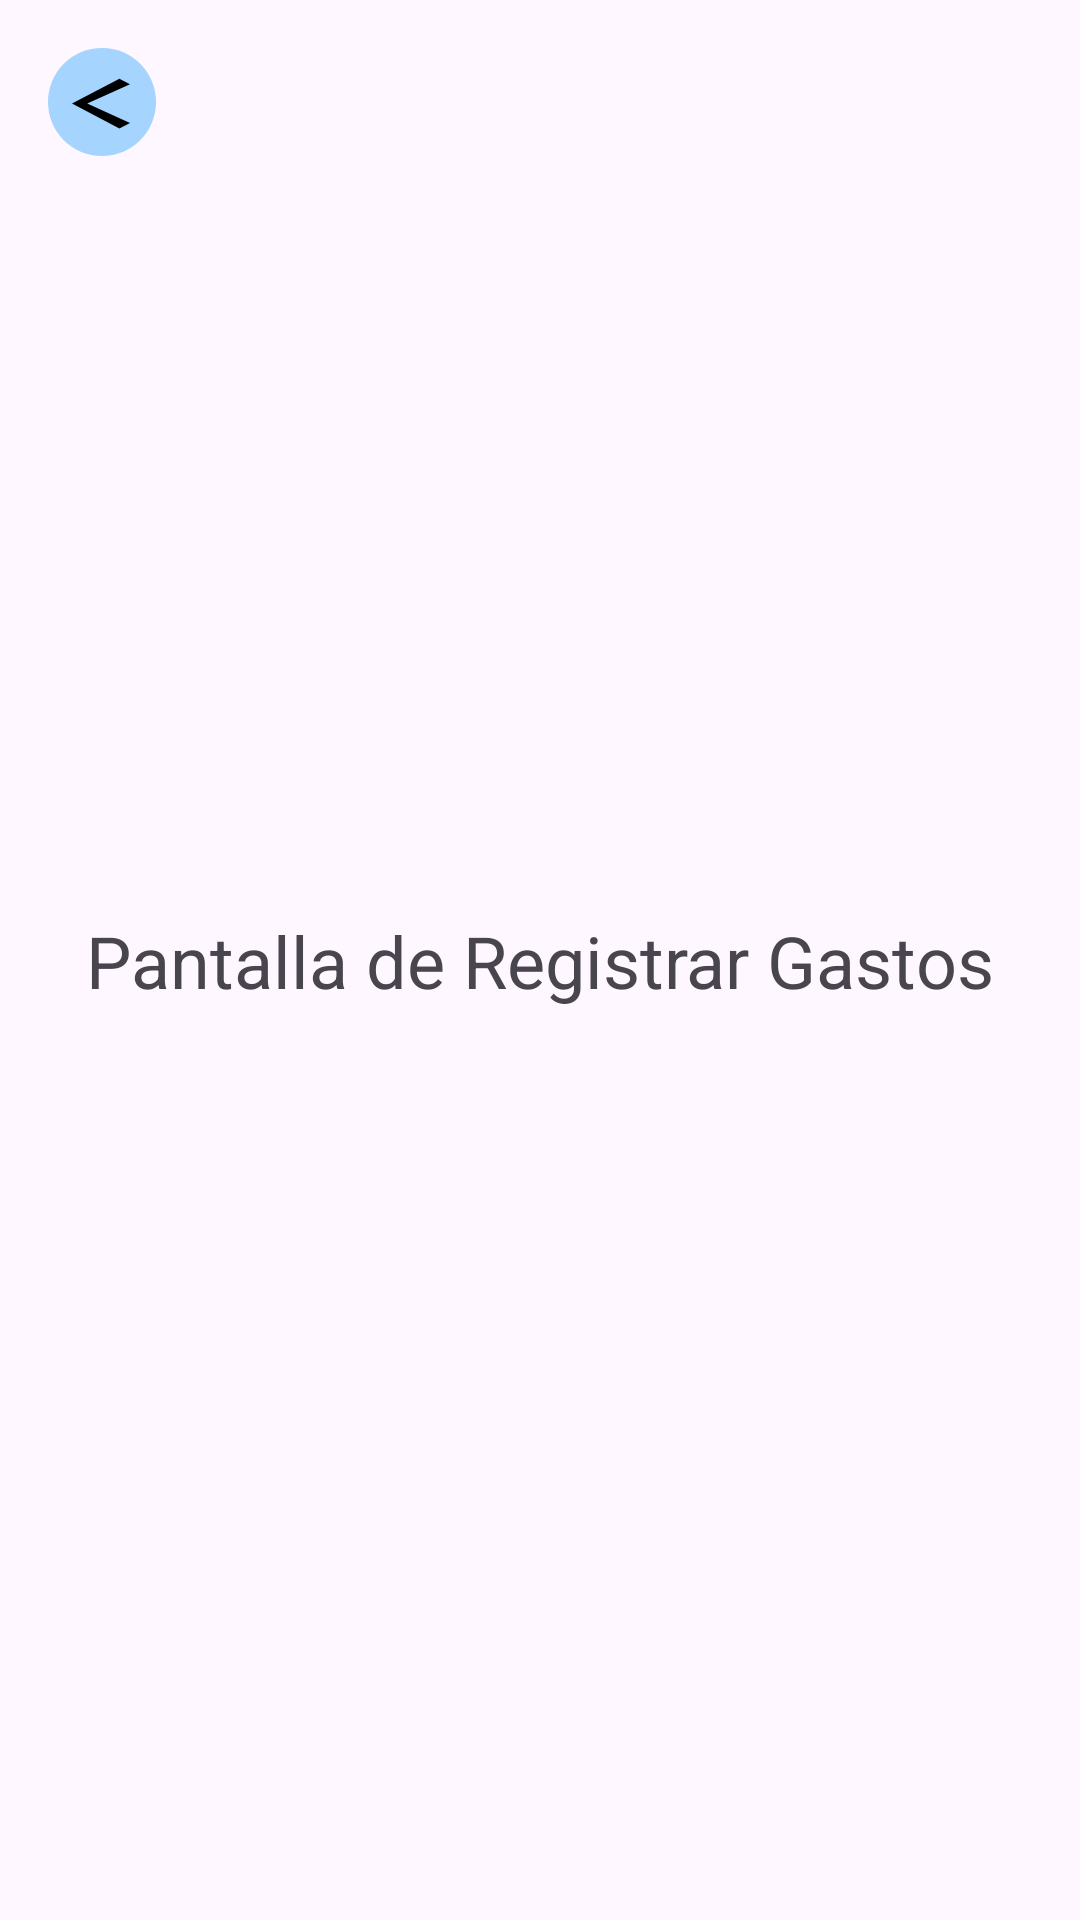

Icon bounding boxes for this 1080 × 1920 phone screenshot, format Rect(x1, y1, x2, y2):
arrow back: Rect(48, 48, 156, 156)
